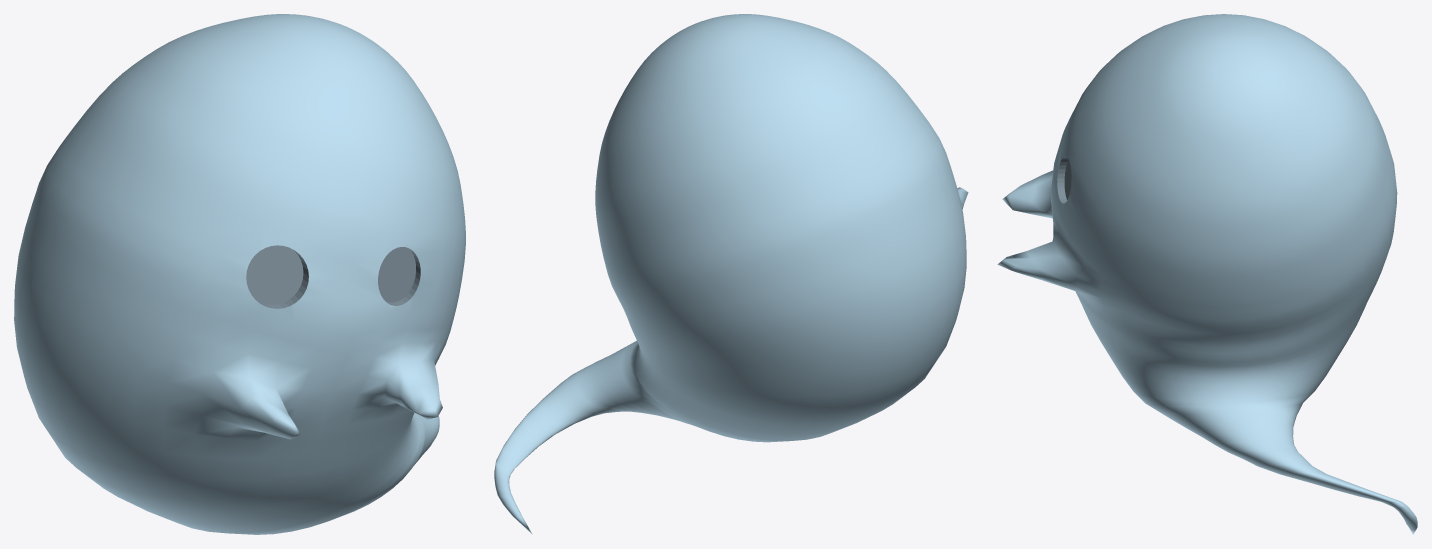
The model's file is teresa.fbx.
3 views of the same model, side by side, from view 1: azimuth 30°, elevation 25°; view 2: azimuth 150°, elevation 25°; view 3: azimuth 270°, elevation 25° (orthographic). The views are drawn at different scales.
Parts seen in each view (by area): view 1: pSphere1; view 2: pSphere1; view 3: pSphere1.
Boxes of the visible parts, x1,y1,x2,y2 form: pSphere1: (14, 14, 465, 534); pSphere1: (494, 14, 968, 534); pSphere1: (997, 14, 1417, 534).
Size of the model in its own units: 1.11 by 1.36 by 1.16.
Materials: 1 (1 with a texture image).
